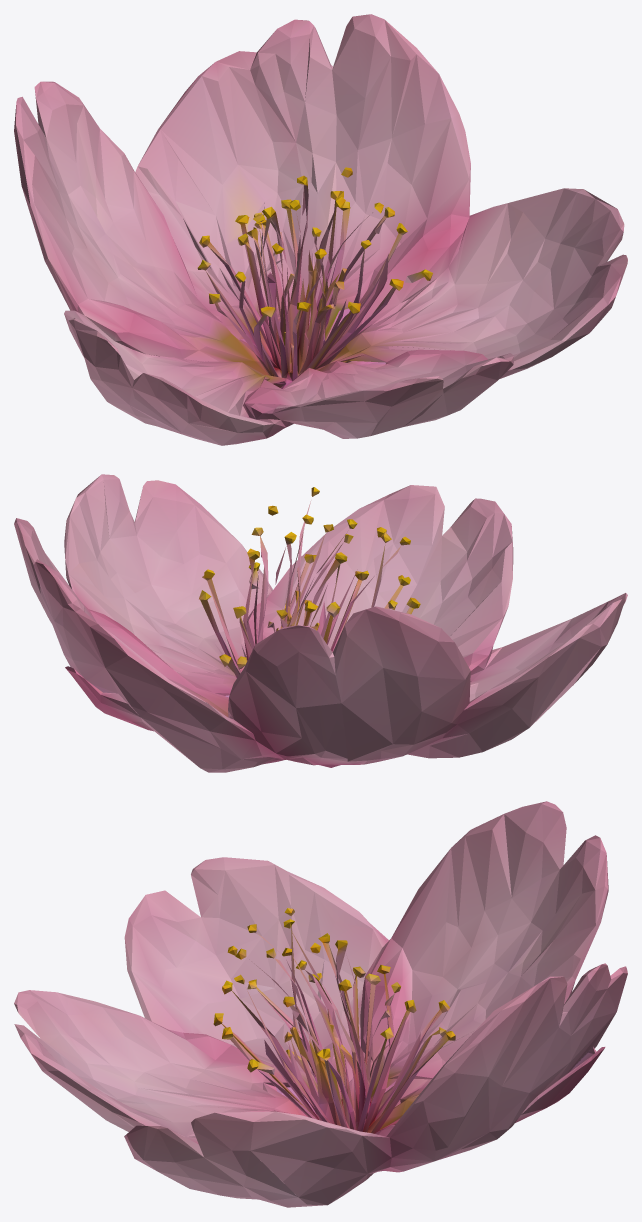
File: blossom.glb
The picture shows the model from 3 angles, top to bottom: view 1: azimuth 30°, elevation 25°; view 2: azimuth 150°, elevation 25°; view 3: azimuth 270°, elevation 25°; orthographic projection.
Size of the model in its own units: 1.9 by 0.9084 by 1.9.
